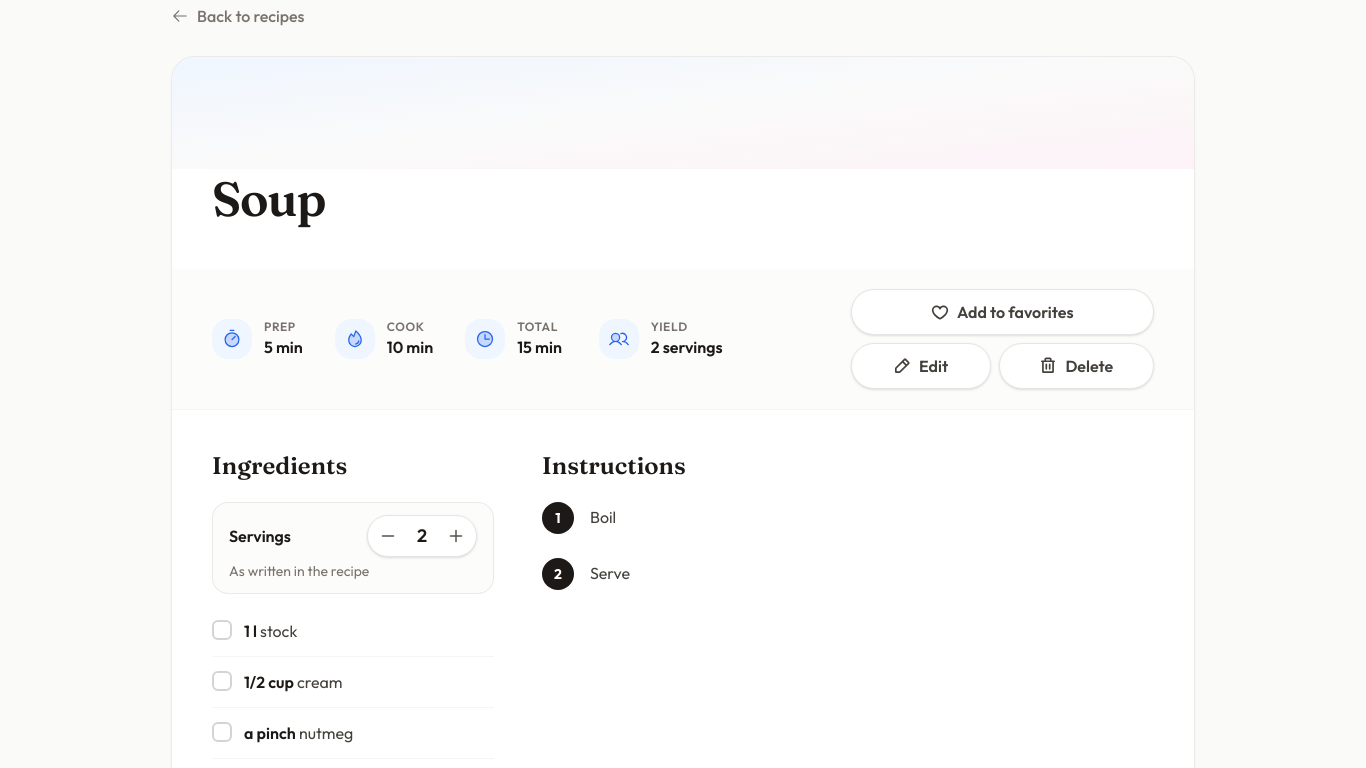
Scenario: serving size › checked ingredients stay checked when the serving size changes
expect the heading "Soup" is shown: met, box [212,169,325,228]
Click the checkbox labelled "1 l stock" at [255, 630], box [212,620,297,641]
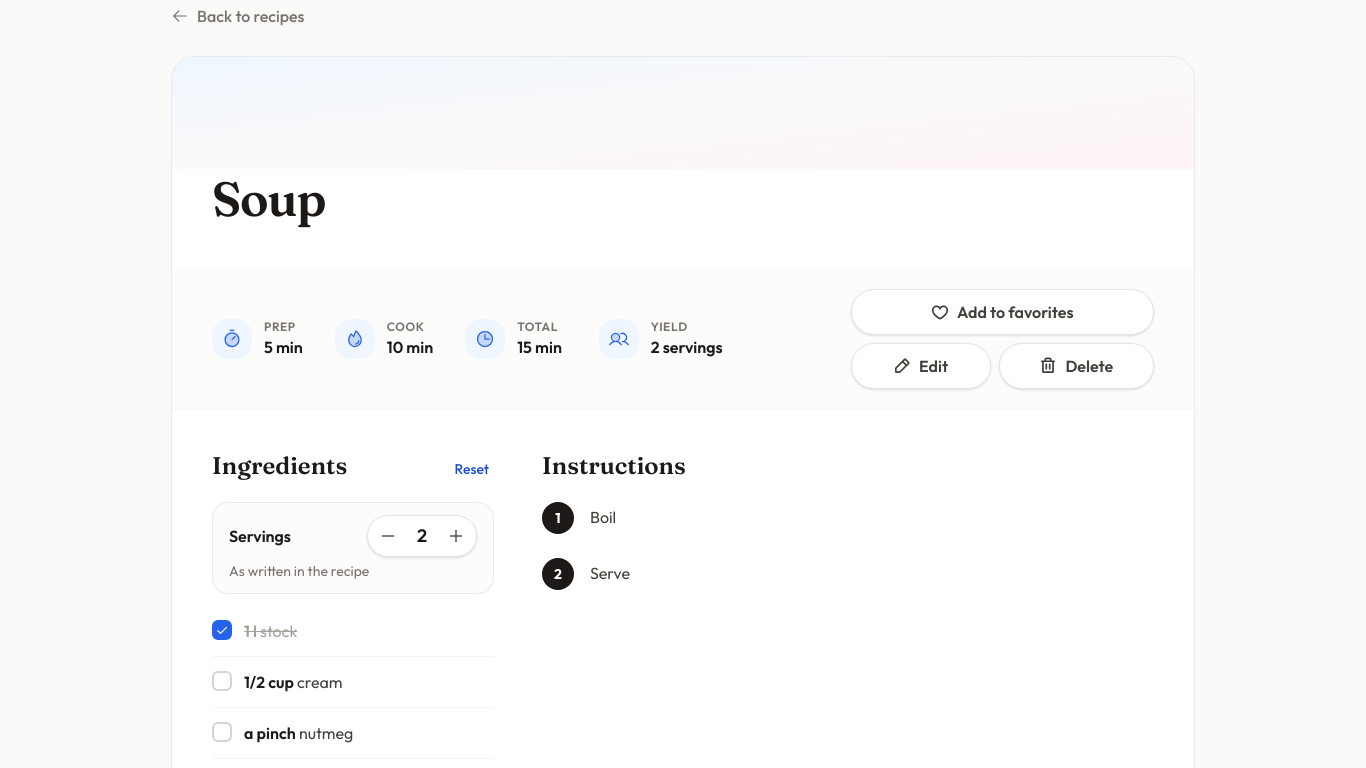
Click the button named "More servings" at [456, 536], box [440,520,472,552]
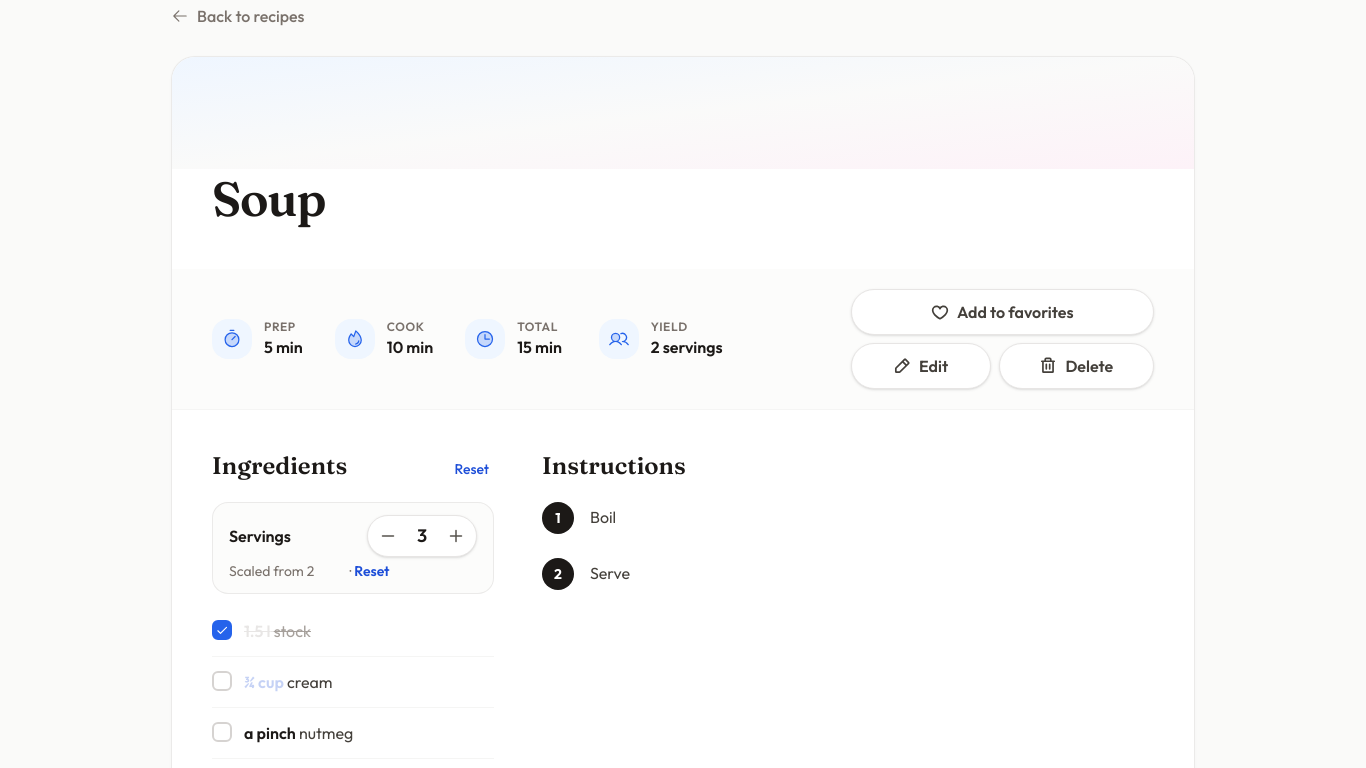
expect the checkbox labelled "1.5 l stock" is checked: met, box [212,620,311,641]
expect the text "1.5 l" is shown: met, box [244,621,274,641]
